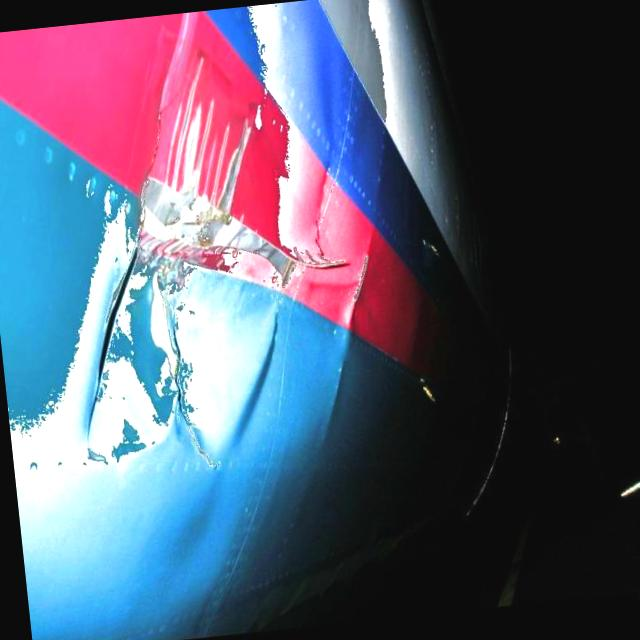crack: (165, 314, 216, 476)
dent: (212, 310, 292, 458), (116, 349, 176, 442)
